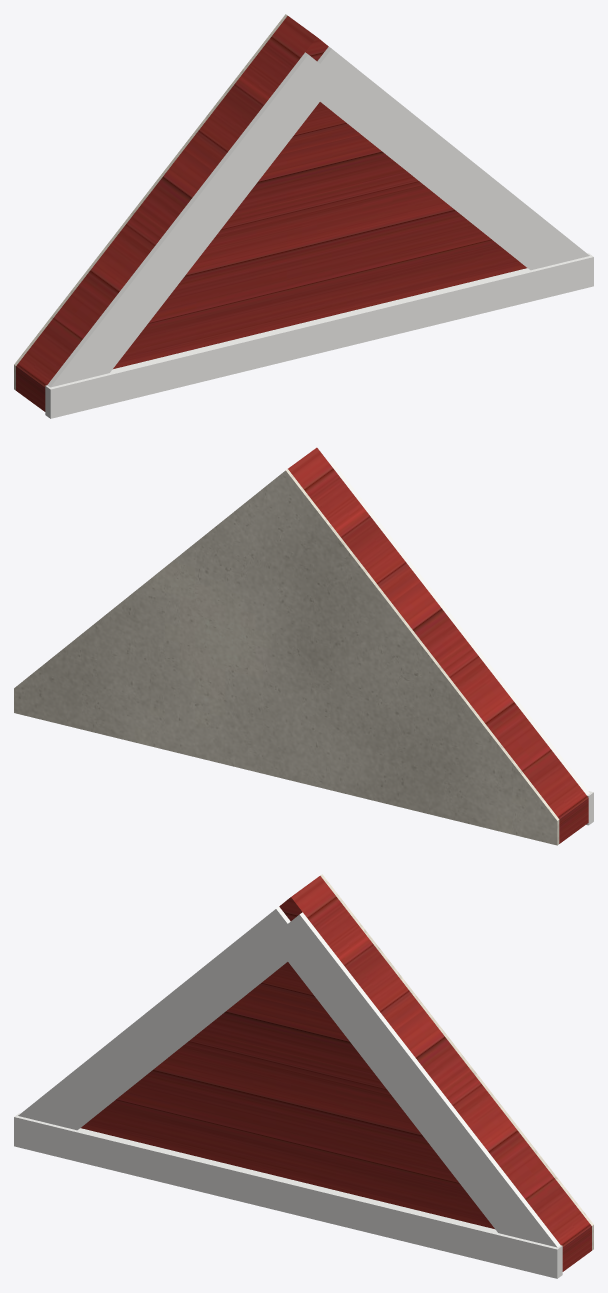
File: vest_gable.glb
The picture shows the model from 3 angles, top to bottom: view 1: azimuth 30°, elevation 25°; view 2: azimuth 150°, elevation 25°; view 3: azimuth 330°, elevation 25°; orthographic projection.
Visible parts, largest first — view 1: vest_gable_siding, vest_gable_trim, vest_gable_plaster; view 2: vest_gable_plaster, vest_gable_siding, vest_gable_trim; view 3: vest_gable_siding, vest_gable_trim, vest_gable_plaster.
Boxes of the visible parts, left/top/right/bottom form: vest_gable_siding: left=16, top=16, right=526, bottom=411; vest_gable_trim: left=45, top=46, right=593, bottom=418; vest_gable_plaster: left=14, top=14, right=287, bottom=390; vest_gable_plaster: left=14, top=469, right=559, bottom=845; vest_gable_siding: left=288, top=447, right=588, bottom=843; vest_gable_trim: left=329, top=460, right=593, bottom=825; vest_gable_siding: left=81, top=876, right=591, bottom=1271; vest_gable_trim: left=14, top=906, right=562, bottom=1278; vest_gable_plaster: left=320, top=874, right=593, bottom=1250.
Bounding box in the file's own units: 3 × 1.64 × 0.35.
Materials: 3 (2 with a texture image).
